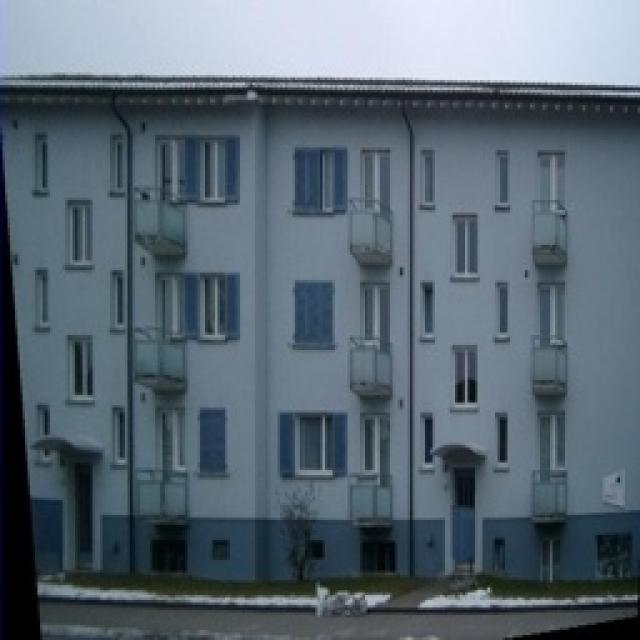Window: (298, 152, 338, 210), (295, 415, 333, 473), (365, 150, 393, 208), (362, 415, 388, 475), (540, 412, 565, 470), (454, 217, 478, 275), (364, 284, 388, 338), (542, 284, 566, 338), (454, 350, 478, 402), (160, 412, 180, 472), (202, 140, 222, 198), (205, 277, 225, 335), (542, 155, 566, 203), (160, 140, 182, 192), (162, 280, 182, 328), (75, 205, 90, 260), (75, 340, 90, 392), (498, 155, 508, 205), (422, 152, 432, 202), (498, 415, 508, 463), (500, 287, 508, 335), (425, 287, 433, 335), (115, 140, 123, 188), (117, 410, 125, 455), (425, 418, 433, 462), (115, 278, 123, 322), (40, 140, 45, 188), (40, 275, 45, 320), (42, 408, 48, 432)
